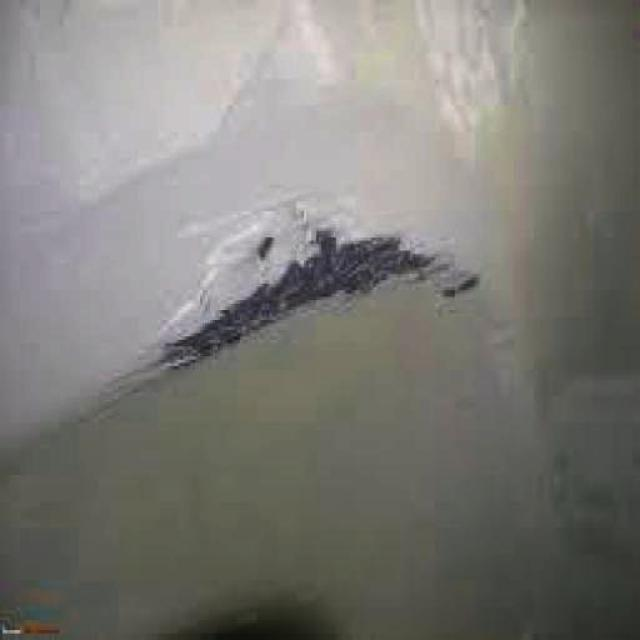car damage: (166, 205, 479, 373)
